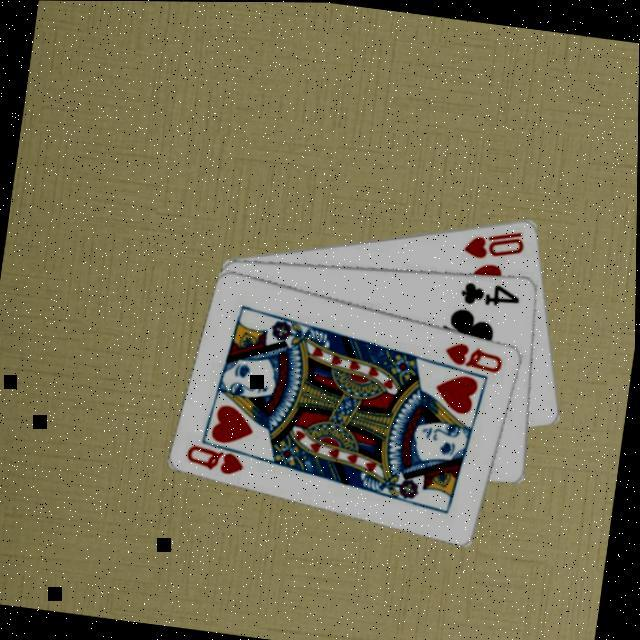10H: (460, 220, 531, 266)
4C: (458, 275, 525, 312)
QH: (184, 434, 261, 480), (442, 337, 509, 375)
